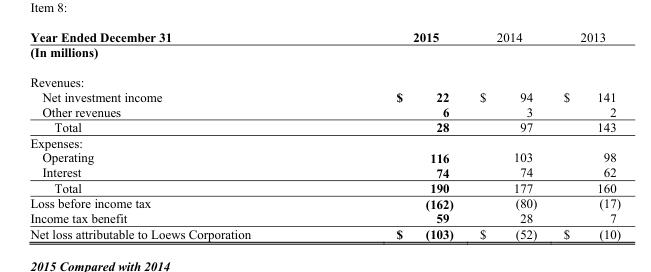table: (29, 29, 619, 240)
table column: (29, 29, 322, 240), (322, 29, 465, 240), (465, 29, 549, 240), (549, 29, 619, 240)
table column header: (29, 29, 619, 44)
table projected row header: (29, 44, 619, 66), (29, 66, 619, 88), (29, 134, 619, 149)
table row: (29, 44, 619, 66), (29, 66, 619, 88), (29, 103, 619, 119), (29, 179, 619, 195), (29, 29, 619, 44), (29, 88, 619, 103), (29, 119, 619, 134), (29, 134, 619, 149), (29, 149, 619, 164), (29, 164, 619, 179), (29, 195, 619, 210), (29, 210, 619, 225), (29, 225, 619, 240)
